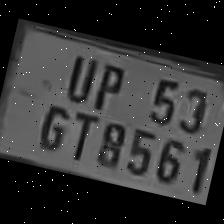1: (178, 138, 216, 195)
3: (172, 78, 211, 136)
5: (141, 71, 184, 129), (120, 122, 160, 179)
6: (148, 132, 188, 188)
8: (90, 114, 128, 172)
G: (31, 98, 74, 156)
P: (88, 54, 130, 114)
T: (61, 106, 100, 165)
U: (58, 48, 100, 104)
